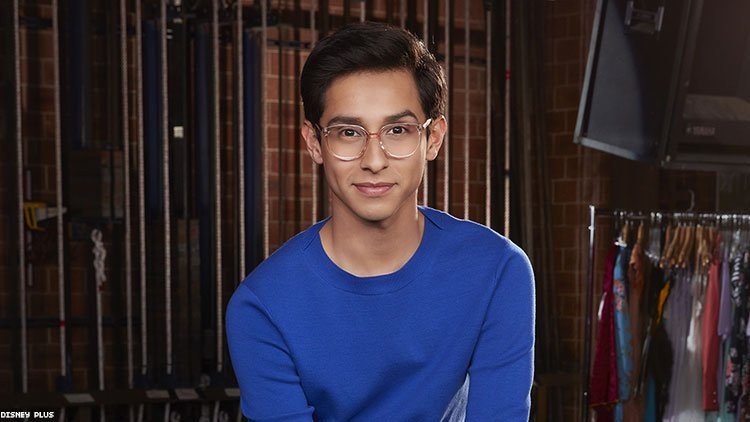bare: (320, 143, 425, 223)
